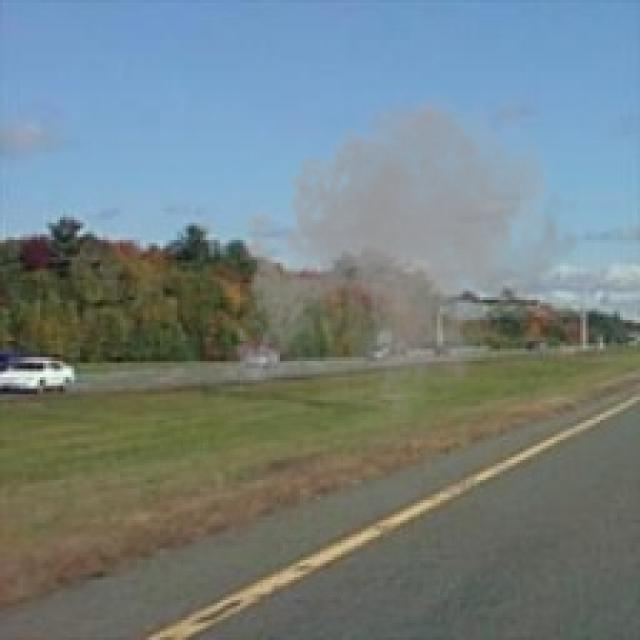Smoke: (223, 80, 583, 443)
